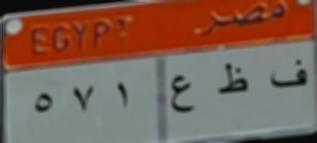1: (108, 77, 137, 113)
5: (30, 88, 59, 120)
7: (67, 79, 98, 115)
Thaa: (215, 57, 252, 102)
ain: (167, 68, 201, 122)
faa: (266, 58, 311, 97)
